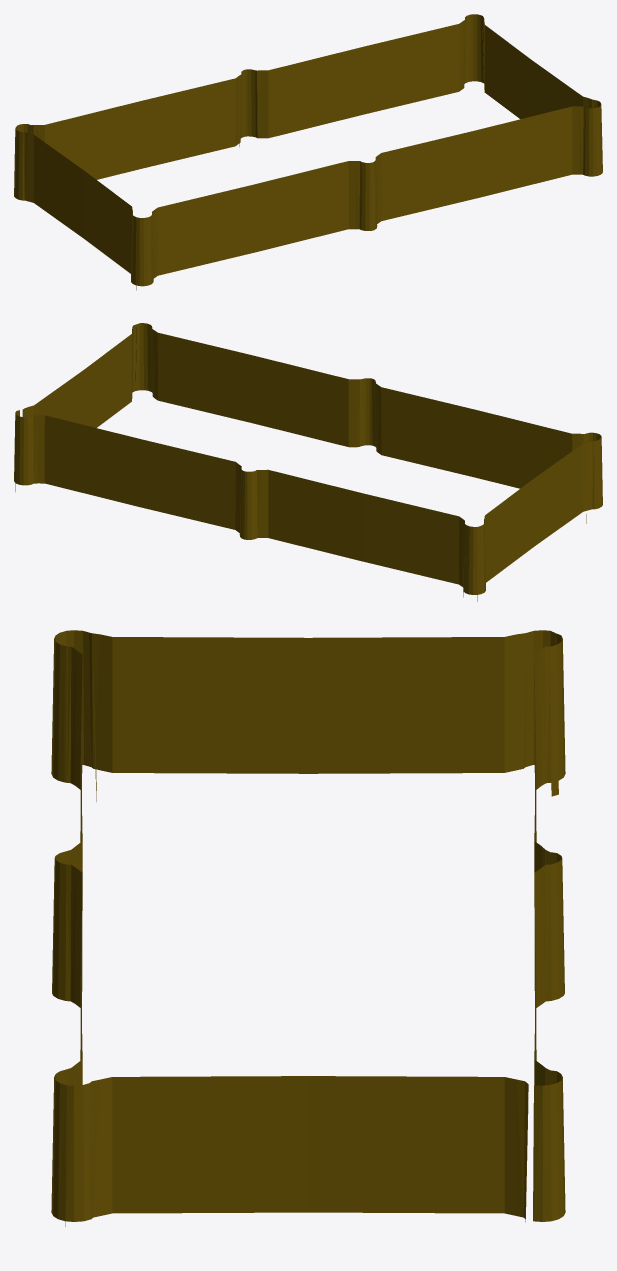
Rendered from Walls.glb.
The picture shows the model from 3 angles, top to bottom: view 1: azimuth 30°, elevation 25°; view 2: azimuth 150°, elevation 25°; view 3: azimuth 270°, elevation 25°; orthographic projection. The views are drawn at different scales.
Visible parts, largest first — view 1: Walls; view 2: Walls; view 3: Walls.
Boxes of the visible parts, x1,y1,x2,y2 form: Walls: (14, 14, 602, 290); Walls: (14, 323, 602, 601); Walls: (51, 630, 565, 1226).
Size of the model in its own units: 2.83 by 0.4924 by 1.34.
